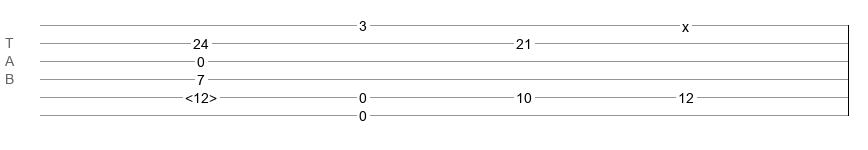0: (197, 54, 205, 64), (359, 90, 367, 100), (359, 108, 367, 118)
10: (516, 90, 532, 100)
12: (678, 90, 694, 100)
21: (516, 36, 532, 46)
24: (193, 36, 209, 46)
3: (359, 18, 367, 28)
7: (197, 72, 205, 82)
harmonic: (185, 90, 217, 100)
x: (682, 19, 689, 27)
